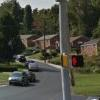Car: (4, 66, 40, 92)
